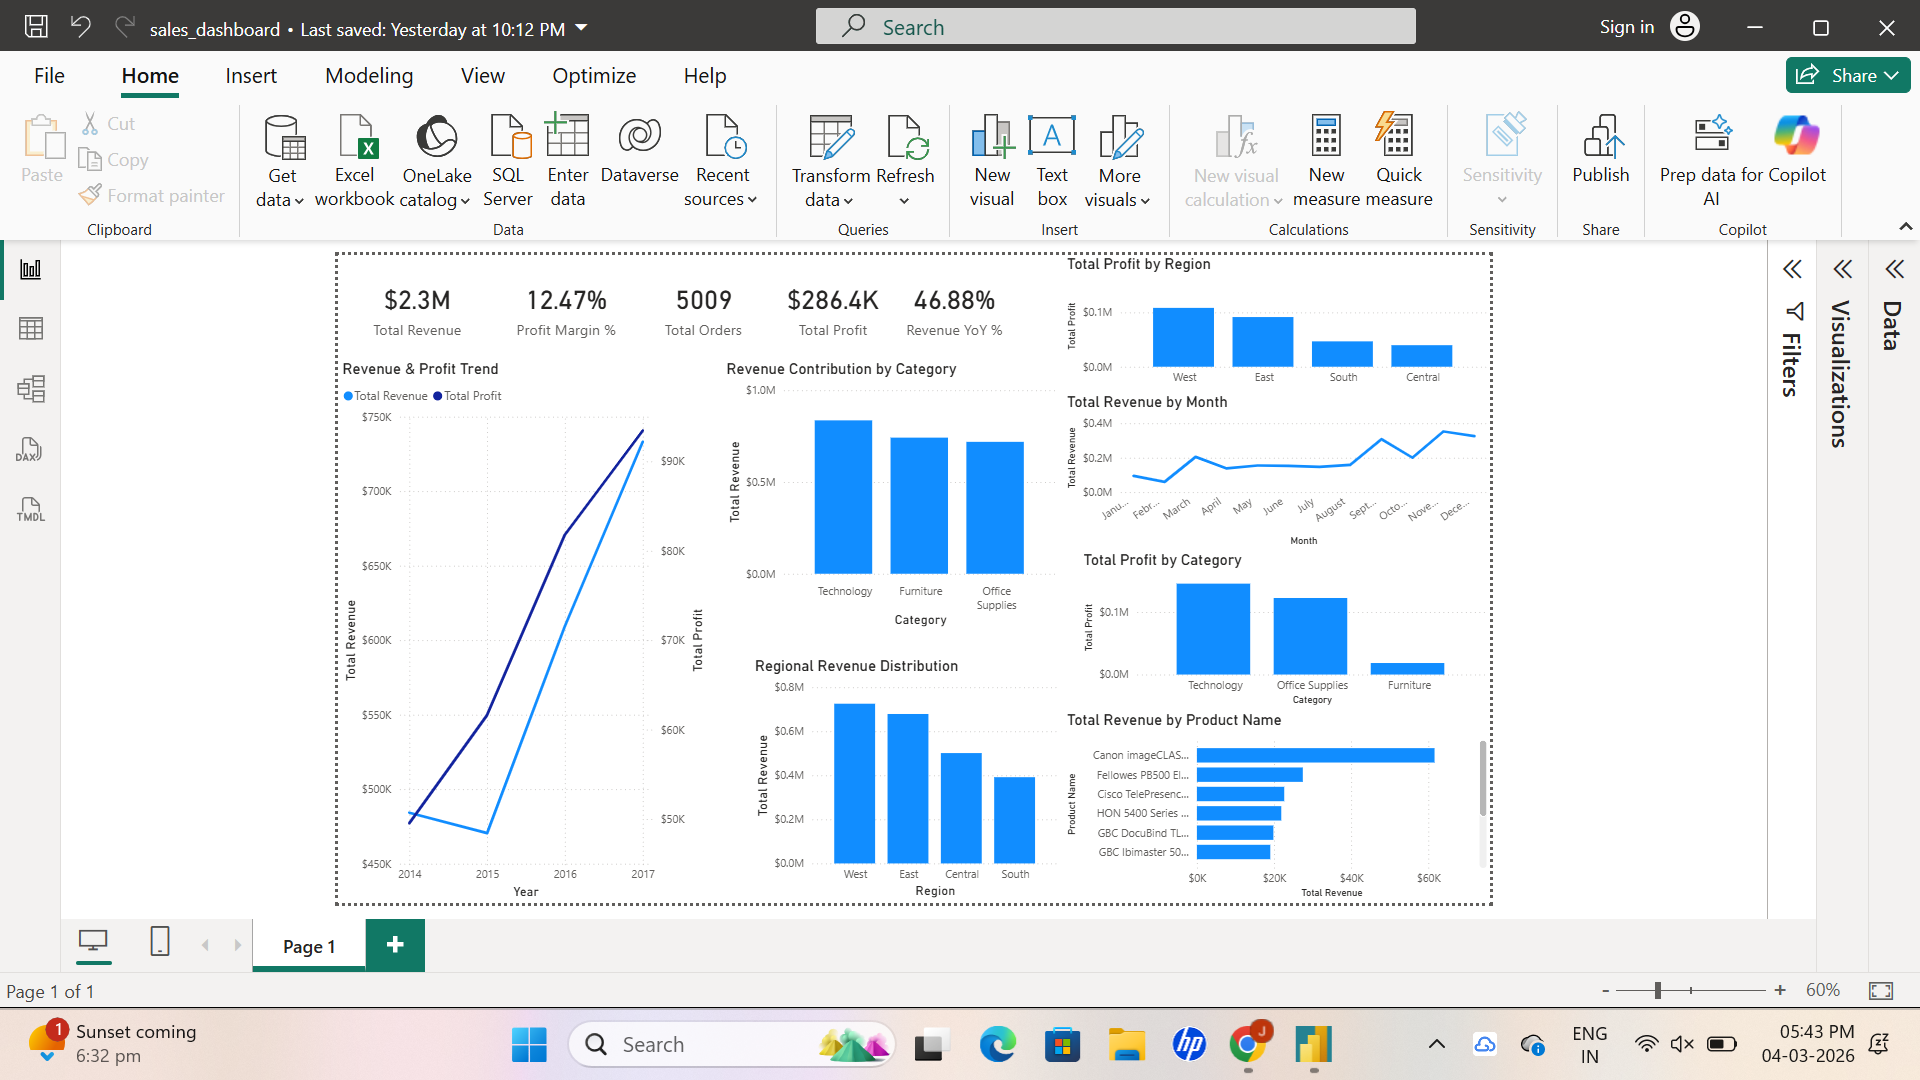

This screenshot's page, from the dashboard's own definition file:
{"tool":"powerbi","page":{"name":"Page 1","canvas":[1280,720],"ordinal":0},"visuals":[{"type":"card","fields":{"Values":["Sample - Superstore.Total Revenue"]},"box":[9.7,0,155.4,116.6],"z":0},{"type":"card","fields":{"Values":["Sample - Superstore.Total Orders"]},"box":[341.7,0,127.9,116.6],"z":1000},{"type":"card","fields":{"Values":["Sample - Superstore.Profit Margin %"]},"box":[165.2,0,176.5,116.6],"z":2000},{"type":"card","fields":{"Values":["Sample - Superstore.Total Profit"]},"box":[480.9,0,136,116.6],"z":3000},{"type":"lineChart","title":"Revenue & Profit Trend","fields":{"Category":["Sample - Superstore.Order Date.Variation.Date Hierarchy.Year"],"Y":["Sample - Superstore.Total Revenue"],"Y2":["Sample - Superstore.Total Profit"]},"box":[0,116.6,411.3,602.4],"z":4000},{"type":"lineChart","fields":{"Y":["Sample - Superstore.Total Revenue"],"Category":["Sample - Superstore.Order Date.Variation.Date Hierarchy.Month"]},"box":[804.8,153.8,476.1,174.9],"z":5000},{"type":"card","fields":{"Values":["Sample - Superstore.Revenue YoY %"]},"box":[616.9,0,136,116.6],"z":6000},{"type":"clusteredColumnChart","title":"Revenue Contribution by Category","fields":{"Category":["Sample - Superstore.Category"],"Y":["Sample - Superstore.Total Revenue"]},"box":[427.5,116.6,377.3,301.2],"z":7000},{"type":"clusteredColumnChart","fields":{"Category":["Sample - Superstore.Category"],"Y":["Sample - Superstore.Total Profit"]},"box":[822.6,328.7,458.2,176.5],"z":8000},{"type":"clusteredColumnChart","title":"Regional Revenue Distribution","fields":{"Category":["Sample - Superstore.Region"],"Y":["Sample - Superstore.Total Revenue"]},"box":[458.2,446.9,346.5,272],"z":9000},{"type":"clusteredColumnChart","fields":{"Y":["Sample - Superstore.Total Profit"],"Category":["Sample - Superstore.Region"]},"box":[804.8,0,476.1,153.8],"z":10000},{"type":"clusteredBarChart","fields":{"Y":["Sample - Superstore.Total Revenue"],"Category":["Sample - Superstore.Product Name"]},"box":[804.8,506.8,476.1,212.1],"z":11000}]}

Visuals, with their boxes on the page's 1280x720 design canvas (x1, y1, x2, y2). These are canvas units, not pixel positions in the 1920x1080 screenshot, which may show the page scaled, cropped or inside an application window:
card - Sample - Superstore.Total Revenue: bbox(10, 0, 165, 117)
card - Sample - Superstore.Total Orders: bbox(342, 0, 470, 117)
card - Sample - Superstore.Profit Margin %: bbox(165, 0, 342, 117)
card - Sample - Superstore.Total Profit: bbox(481, 0, 617, 117)
"Revenue & Profit Trend" lineChart: bbox(0, 117, 411, 719)
lineChart - Sample - Superstore.Total Revenue x Sample - Superstore.Order Date.Variation.Date Hierarchy.Month: bbox(805, 154, 1281, 329)
card - Sample - Superstore.Revenue YoY %: bbox(617, 0, 753, 117)
"Revenue Contribution by Category" clusteredColumnChart: bbox(428, 117, 805, 418)
clusteredColumnChart - Sample - Superstore.Category x Sample - Superstore.Total Profit: bbox(823, 329, 1281, 505)
"Regional Revenue Distribution" clusteredColumnChart: bbox(458, 447, 805, 719)
clusteredColumnChart - Sample - Superstore.Total Profit x Sample - Superstore.Region: bbox(805, 0, 1281, 154)
clusteredBarChart - Sample - Superstore.Total Revenue x Sample - Superstore.Product Name: bbox(805, 507, 1281, 719)
